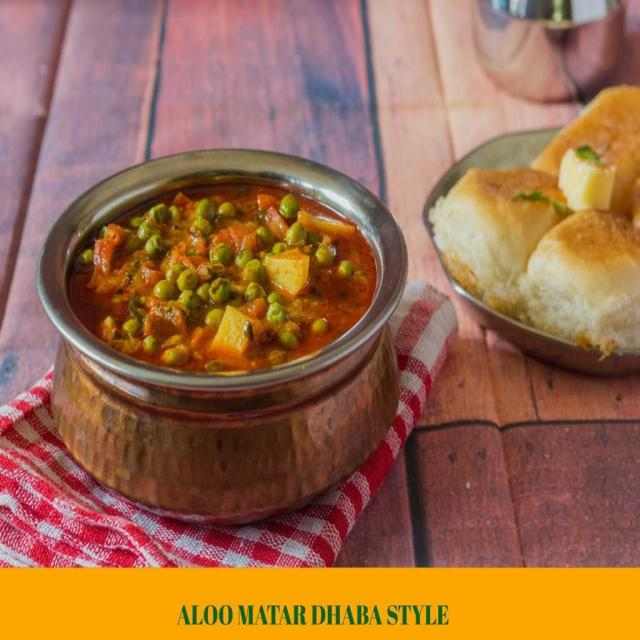aloo_matar: (73, 174, 358, 367)
